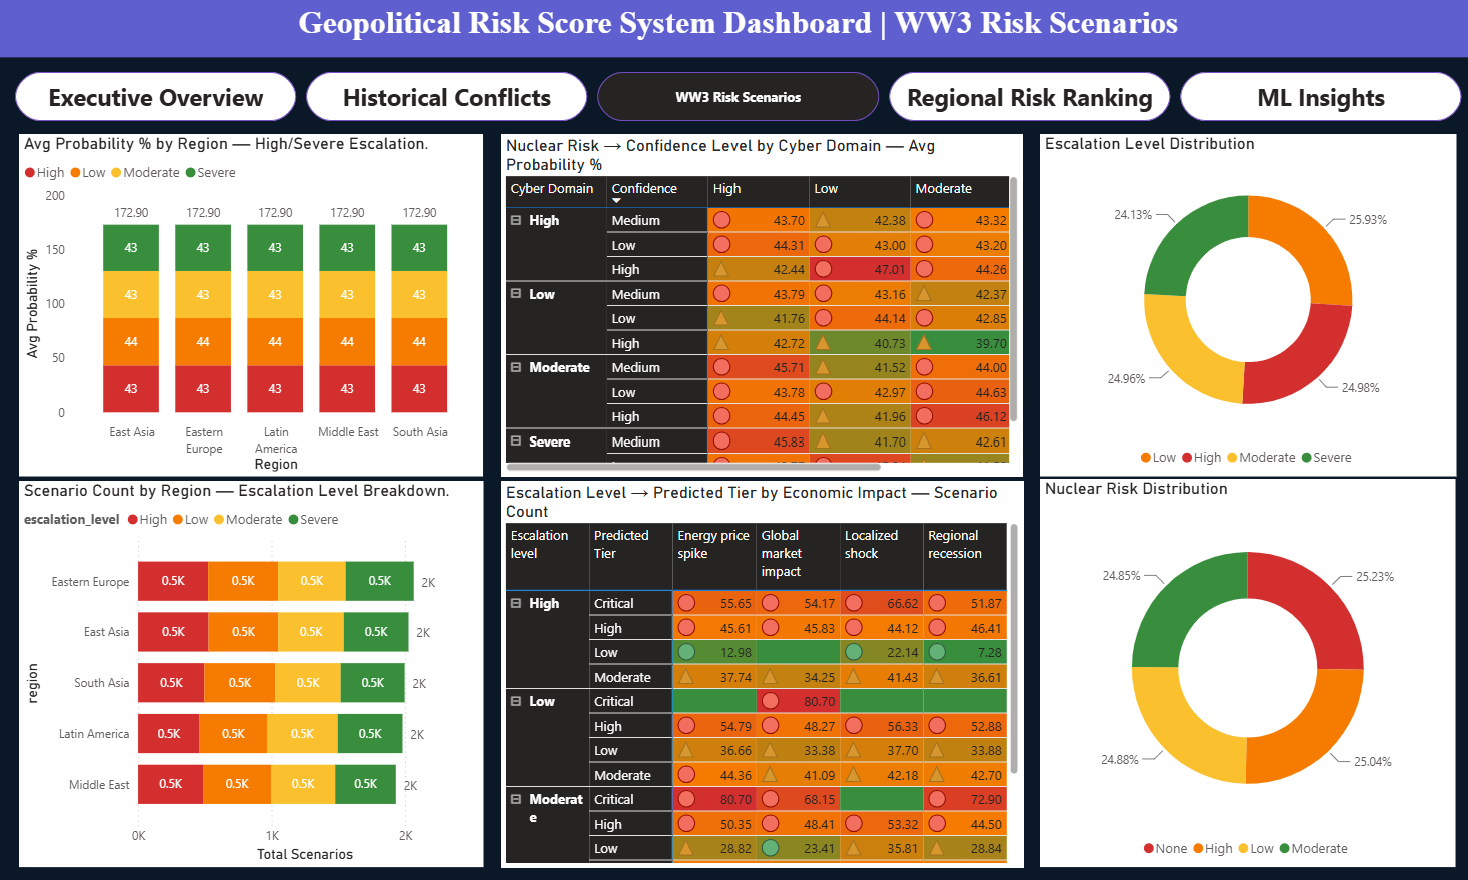

The page's visual inventory and layout, read from the dashboard file:
{"tool":"powerbi","page":{"name":"WW3 Risk Scenarios","canvas":[1500,900],"ordinal":2},"visuals":[{"type":"textbox","box":[0,0,1500,58.6],"z":0},{"type":"columnChart","title":"Avg Probability % by Region — High/Severe Escalation.","fields":{"Category":["FactArchetypes.region"],"Y":["_Measure.Avg Probability %"],"Series":["FactRisk.escalation_level"]},"box":[20,136.7,473.3,348.3],"z":1000},{"type":"barChart","title":"Scenario Count by Region — Escalation Level Breakdown.","fields":{"Category":["FactRisk.region"],"Y":["_Measure.Total Scenarios"],"Series":["FactRisk.escalation_level"]},"box":[20,490,474,394],"z":2000},{"type":"pivotTable","title":"Nuclear Risk → Confidence Level by Cyber Domain — Avg Probability %","fields":{"Rows":["FactRisk.cyber_domain","FactRisk.confidence"],"Columns":["FactRisk.nuclear_risk"],"Values":["_Measure.Avg Probability %"]},"box":[511.7,136.7,531.7,348.3],"z":3000},{"type":"donutChart","title":"Nuclear Risk Distribution","fields":{"Y":["_Measure.Total Scenarios"],"Category":["FactRisk.nuclear_risk"]},"box":[1062,488,424,396],"z":4000},{"type":"pivotTable","title":"Escalation Level → Predicted Tier by Economic Impact — Scenario Count","fields":{"Rows":["FactRisk.escalation_level","FactRisk.predicted_tier"],"Columns":["FactRisk.economic_impact"],"Values":["_Measure.Avg Probability %"]},"box":[512,490,532,394],"z":5000},{"type":"donutChart","title":"Escalation Level Distribution","fields":{"Y":["_Measure.Total Scenarios"],"Category":["FactRisk.escalation_level"]},"box":[1061.7,136.7,425,348.3],"z":6000},{"type":"pageNavigator","box":[17.2,74.1,1479.3,50],"z":7000}]}

Visuals, with their boxes in screenshot pixels (x1, y1, x2, y2), scaled from the page's 1500x900 canvas onto the 1468x880 screenshot:
textbox: bbox(0, 0, 1467, 57)
"Avg Probability % by Region — High/Severe Escalation." columnChart: bbox(20, 134, 483, 474)
"Scenario Count by Region — Escalation Level Breakdown." barChart: bbox(20, 479, 483, 864)
"Nuclear Risk → Confidence Level by Cyber Domain — Avg Probability %" pivotTable: bbox(501, 134, 1021, 474)
"Nuclear Risk Distribution" donutChart: bbox(1039, 477, 1454, 864)
"Escalation Level → Predicted Tier by Economic Impact — Scenario Count" pivotTable: bbox(501, 479, 1022, 864)
"Escalation Level Distribution" donutChart: bbox(1039, 134, 1455, 474)
pageNavigator: bbox(17, 72, 1465, 121)
